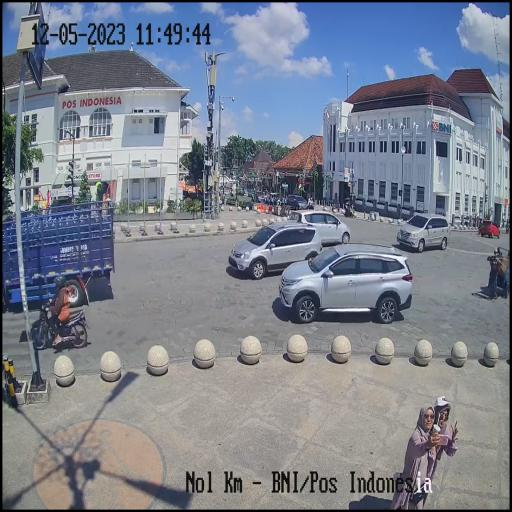mobil: (278, 242, 415, 326), (226, 220, 324, 274), (290, 207, 350, 249), (396, 208, 450, 254)
motor: (30, 300, 89, 351)
